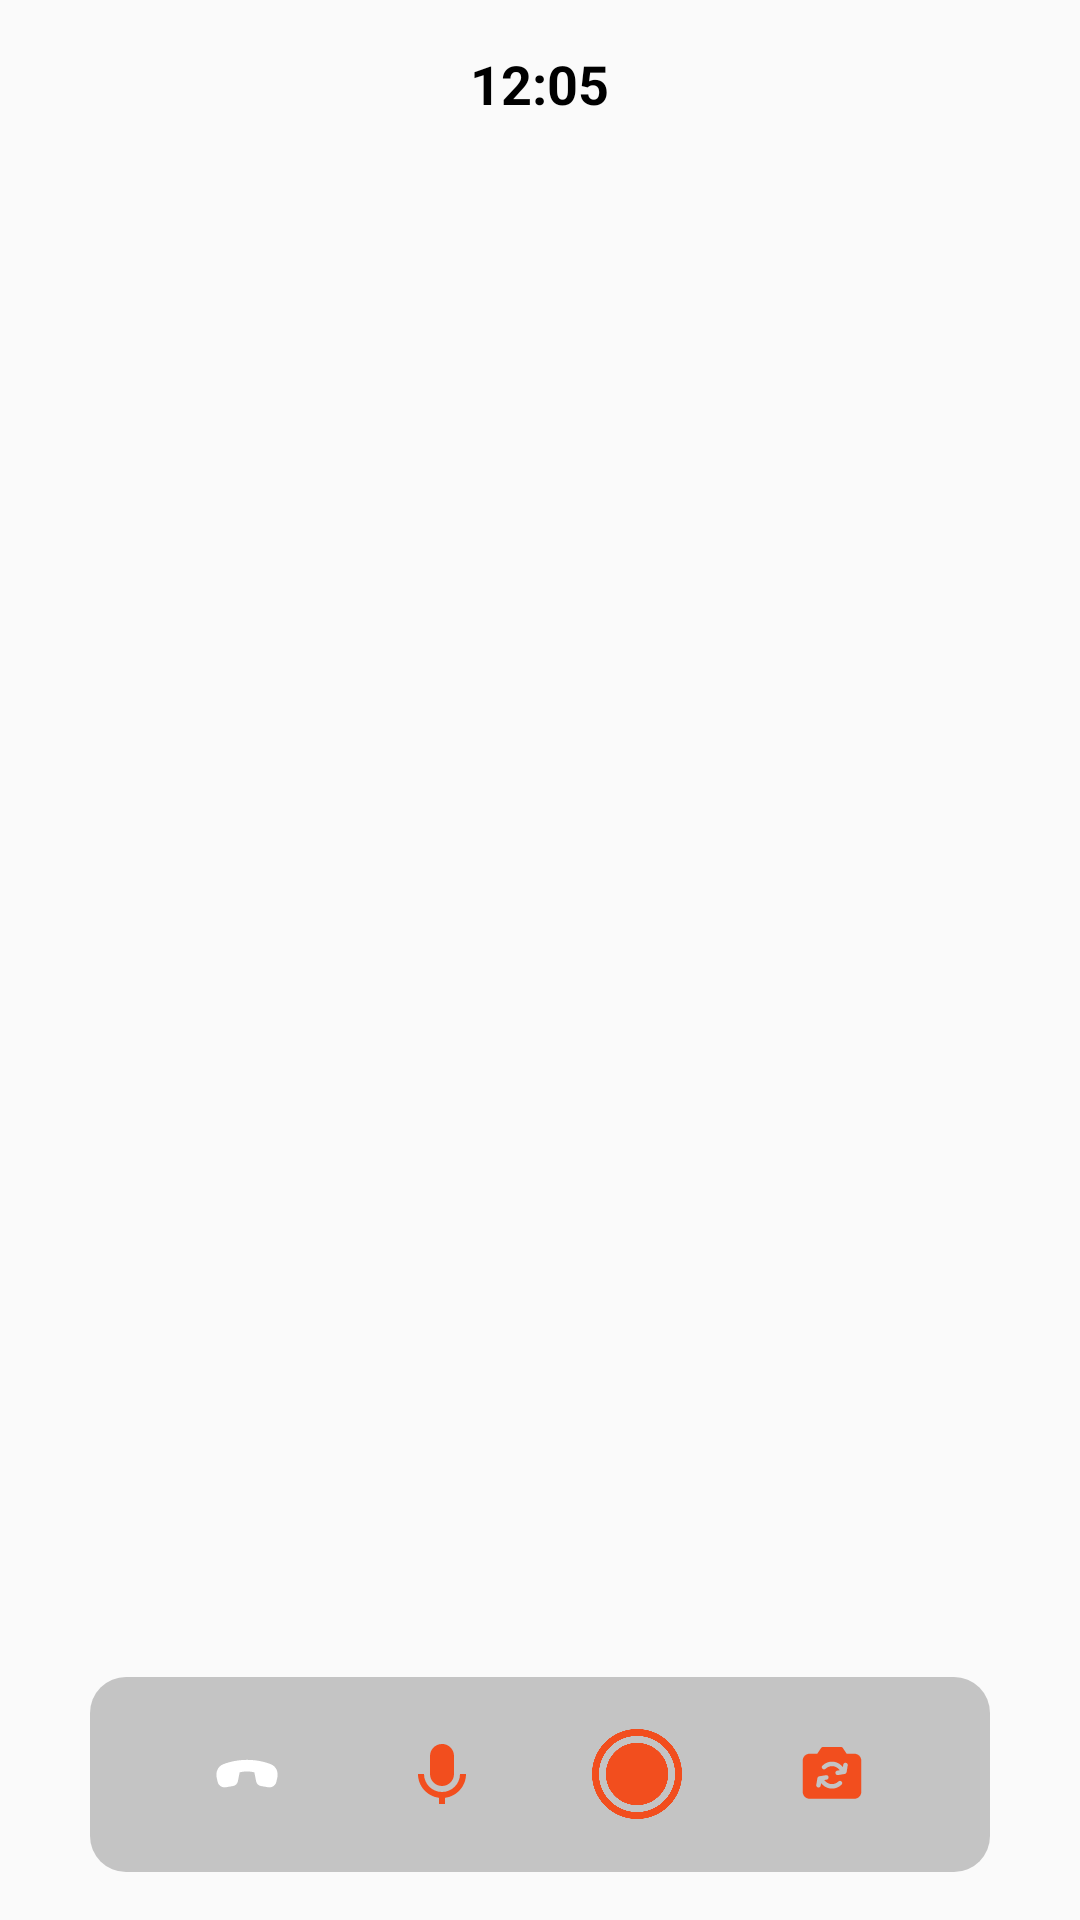

Locate icon controls on the screen. Image size 1080px x 1920px, boxes as box(x1, y1, x2, y2).
call: box(216, 1760, 278, 1787)
camera change: box(802, 1747, 862, 1799)
microphone on: box(418, 1744, 466, 1804)
record: box(592, 1729, 682, 1819)
